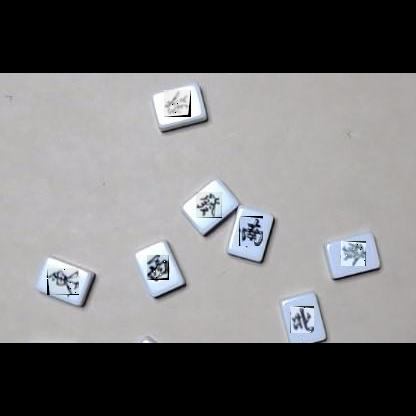1z: (47, 268, 79, 295)
2z: (239, 216, 263, 246)
3z: (147, 255, 169, 280)
4z: (290, 306, 314, 333)
6z: (164, 90, 191, 117), (196, 192, 222, 218), (341, 241, 366, 266)
